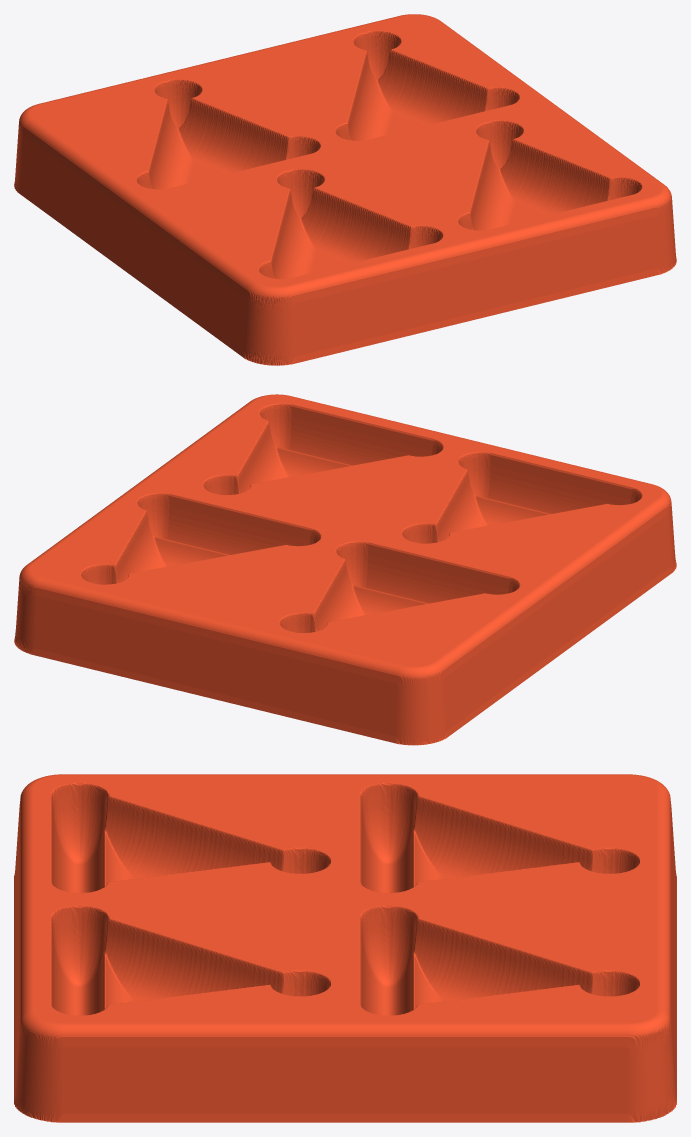
File: mold.glb
3 views of the same model, one above another, from view 1: azimuth 30°, elevation 25°; view 2: azimuth 150°, elevation 25°; view 3: azimuth 270°, elevation 25° (orthographic). The views are drawn at different scales.
Parts seen in each view (by area): view 1: geometry_0; view 2: geometry_0; view 3: geometry_0.
Part boxes in pixels (left/top/right/bottom): geometry_0: left=14, top=14, right=676, bottom=365; geometry_0: left=14, top=394, right=676, bottom=745; geometry_0: left=14, top=774, right=676, bottom=1122.
Bounding box in the file's own units: 0.1148 × 0.0185 × 0.1218.
